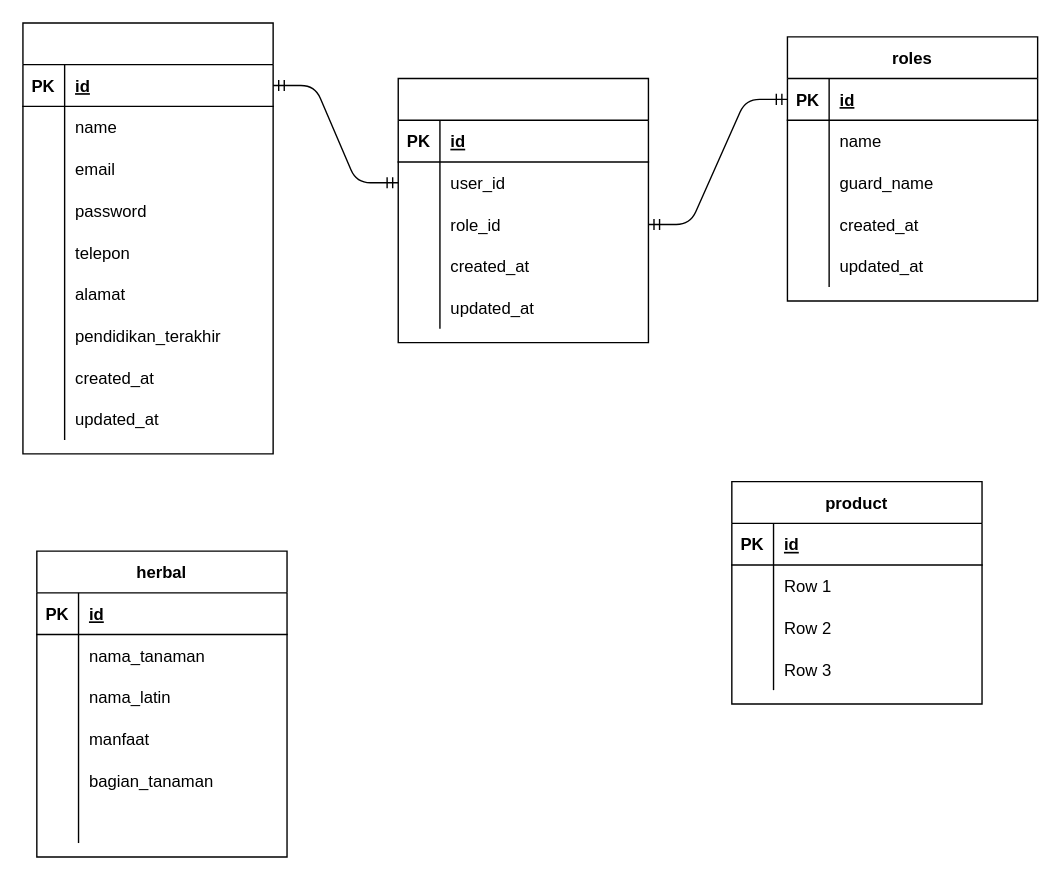
Image size: 1061x880. Some labels were removed from this diagram. Each missing label, with the box of its shape:
role_user: (397, 77, 648, 343)
user: (22, 22, 273, 454)
